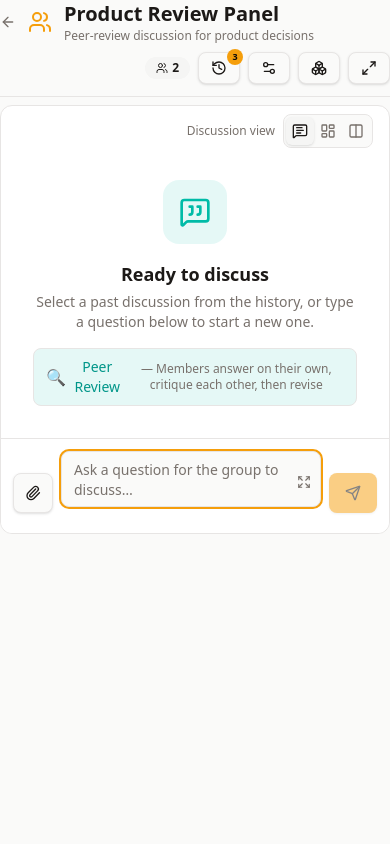
Scenario: GroupDetailPage — configuration on a narrow viewport › offers the config panel where the sidebar is hidden
What coordinates should you click on to do the following:
click the button with test id "open-config-sheet"
I would click on:
 (269, 68)
Its box is [248,52,290,84].
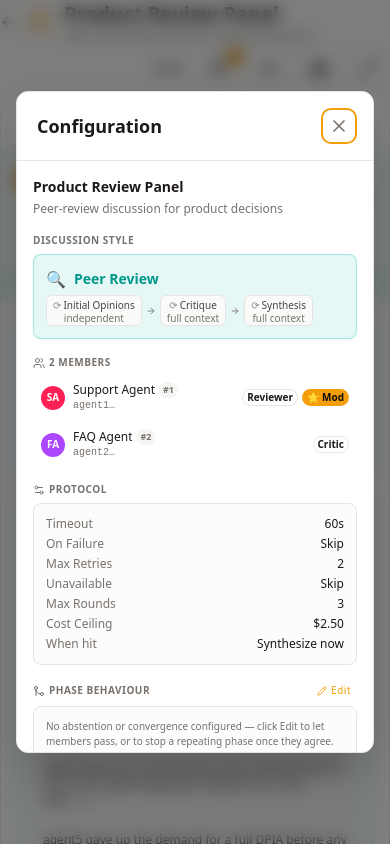
Check: the element with test id "config-sheet" is shown
